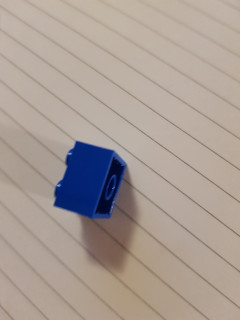2x2 blue: (52, 139, 127, 221)
